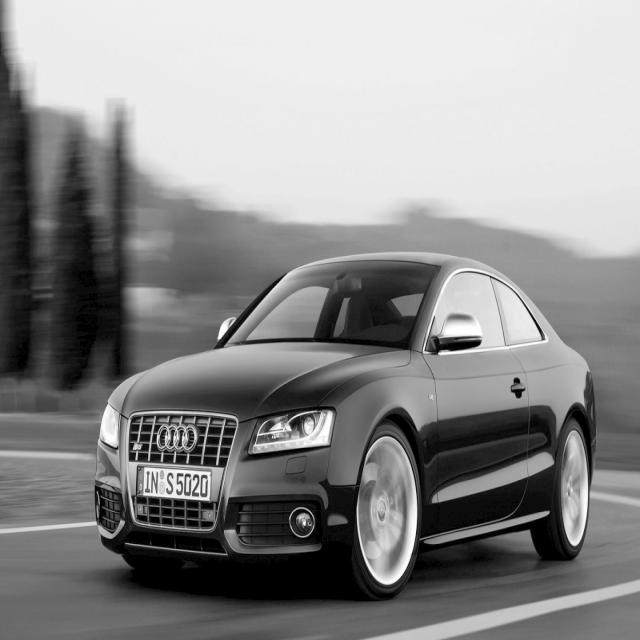car: (94, 250, 597, 600)
plat_license: (136, 464, 212, 502)
